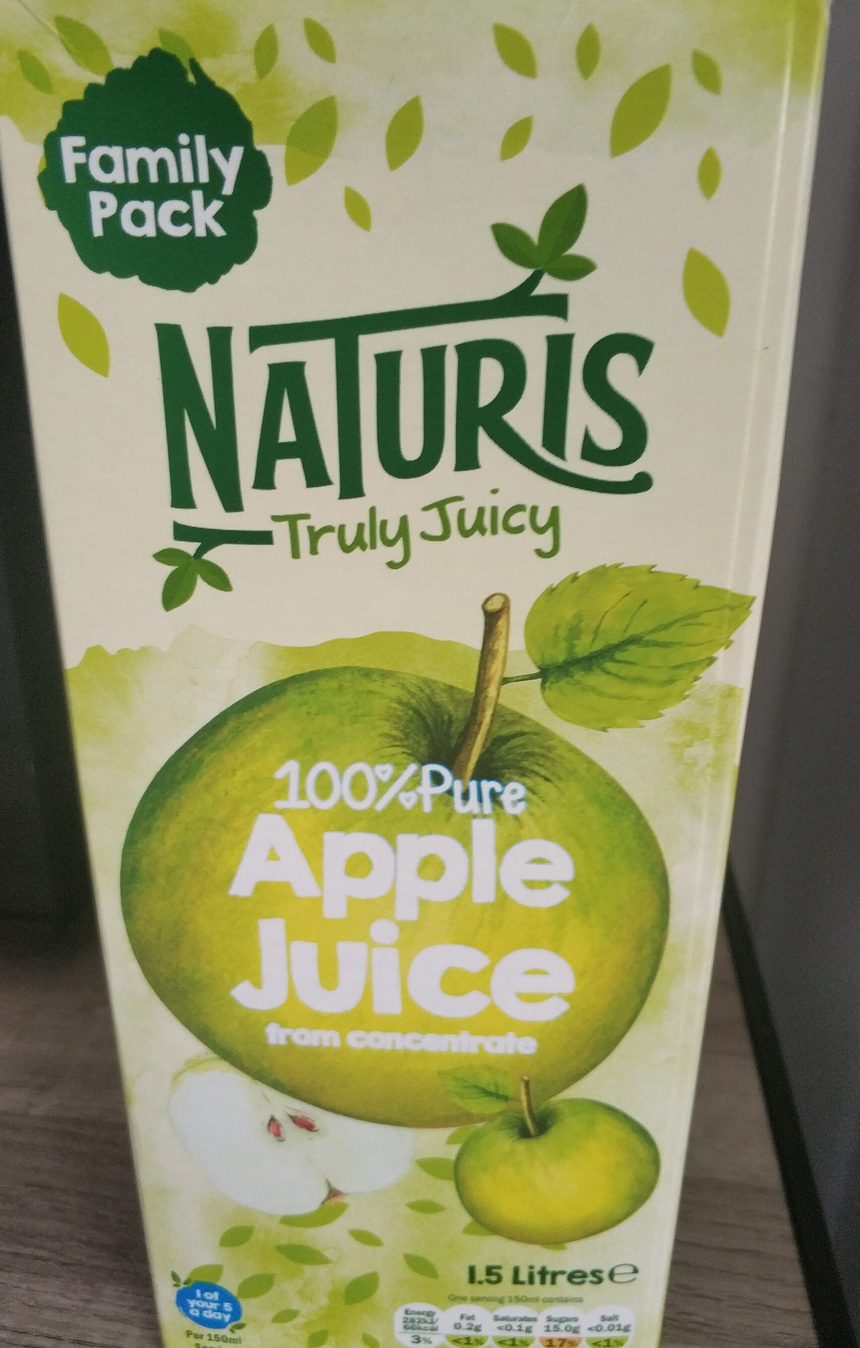Apfelsaft aus Apfelsaftkonzentrat: (43, 67, 817, 1281)
